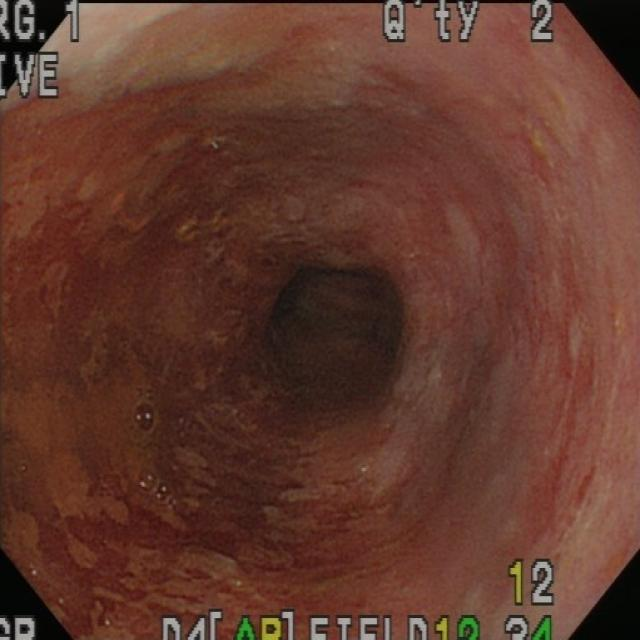A: (517, 248, 606, 546)
E: (267, 253, 406, 411)
J: (2, 300, 269, 640), (2, 120, 269, 298), (265, 419, 392, 597)
S: (160, 608, 483, 640), (383, 3, 558, 45), (3, 3, 83, 45), (3, 50, 63, 101), (507, 558, 556, 608), (506, 614, 556, 640), (2, 614, 39, 640)
T: (139, 464, 174, 508), (129, 384, 158, 433), (16, 463, 31, 478)
